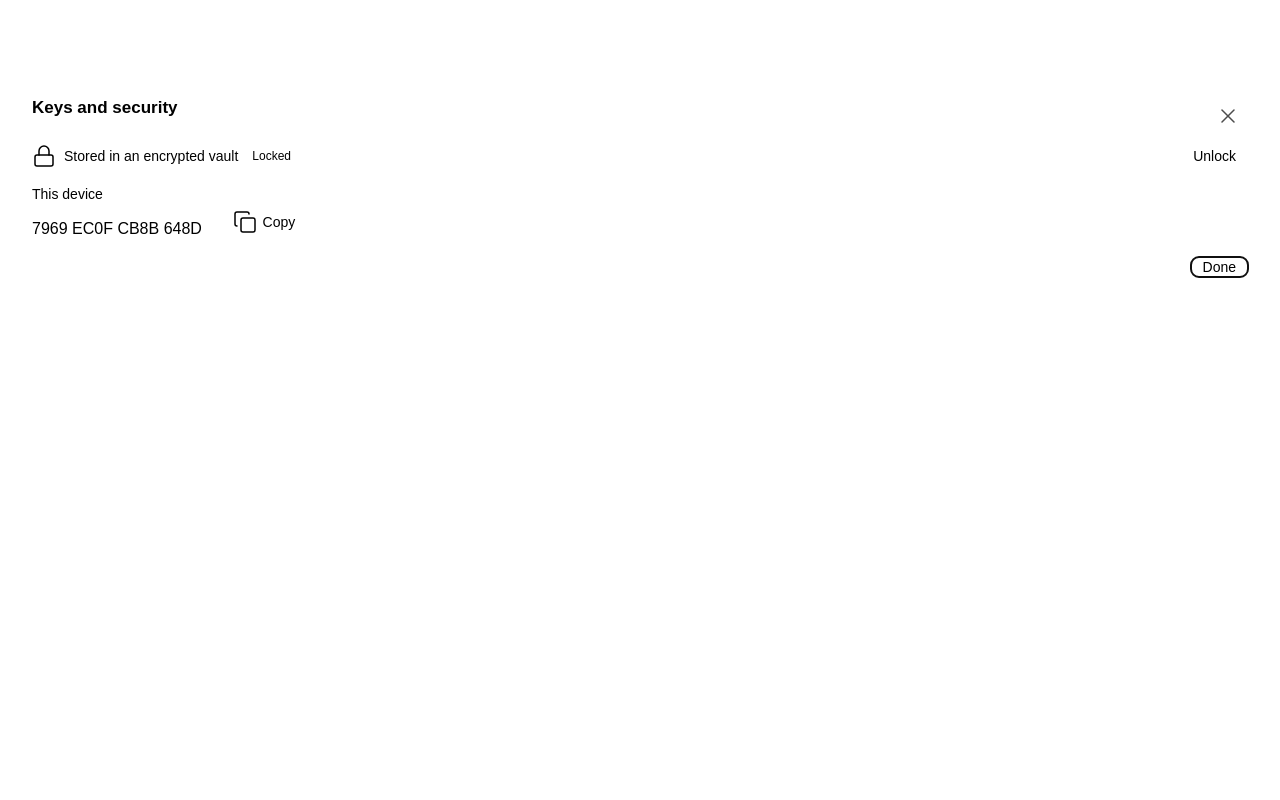
Test: KeysDialog, changing the store › shows an action’s failure in the main process’s own words, without Electron’s wrapper
Expected: the text "Stored in an encrypted vault" is shown, 64,146 -> 238,166
Click the button "Unlock".
click(1215, 156)  # box 1181,146 -> 1248,166
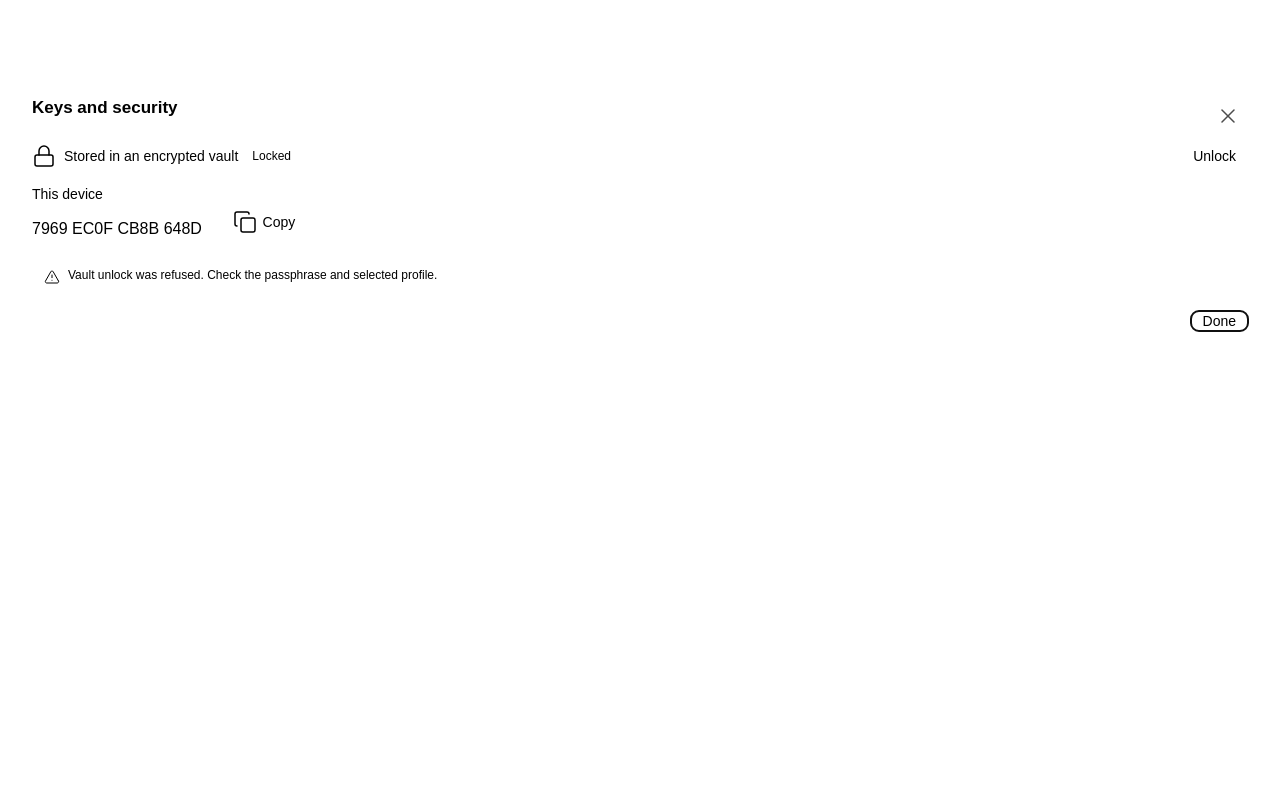
Expected: the message "Vault unlock was refused. Check the passphrase and selected profile." is shown, 44,268 -> 437,285
